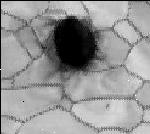good_void: (39, 15, 103, 81), (102, 102, 110, 110)
